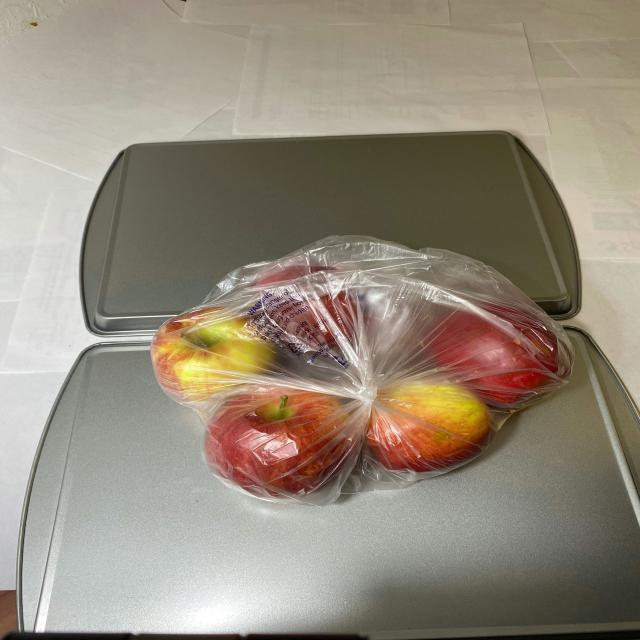apple: (150, 256, 571, 507)
